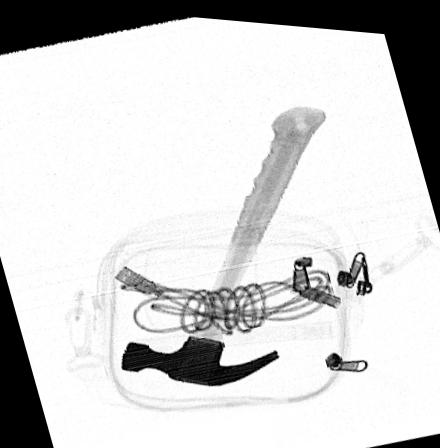Hammer: (121, 100, 328, 383)
